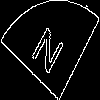N: (25, 25, 66, 84)
